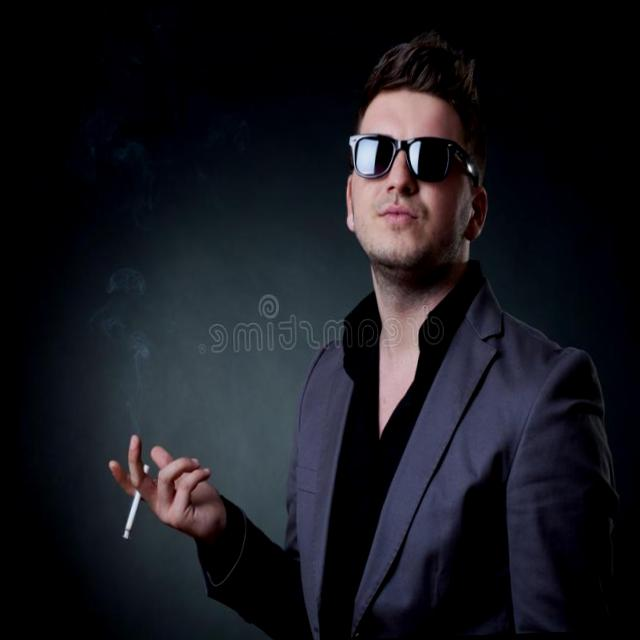smoke: (92, 436, 162, 573)
